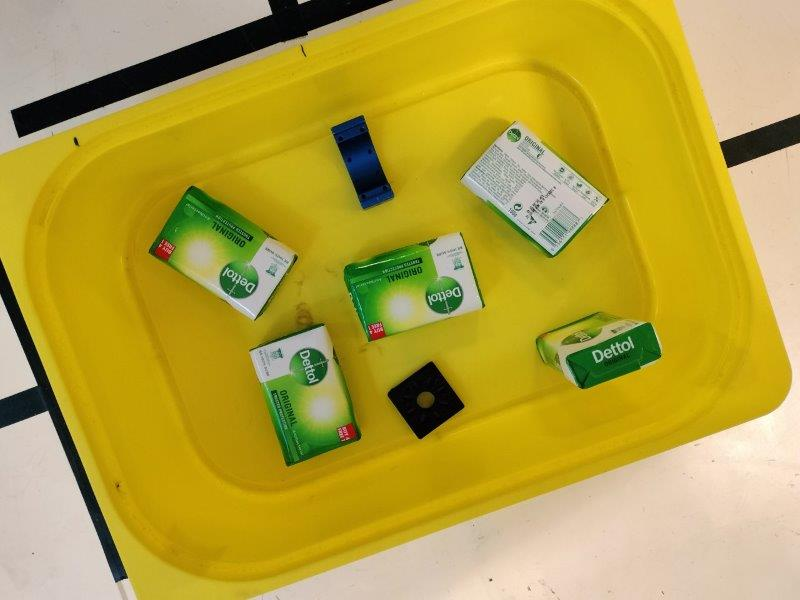Dettol: (149, 185, 296, 320), (460, 123, 608, 257), (248, 323, 362, 466), (343, 234, 486, 343), (534, 311, 665, 391)
